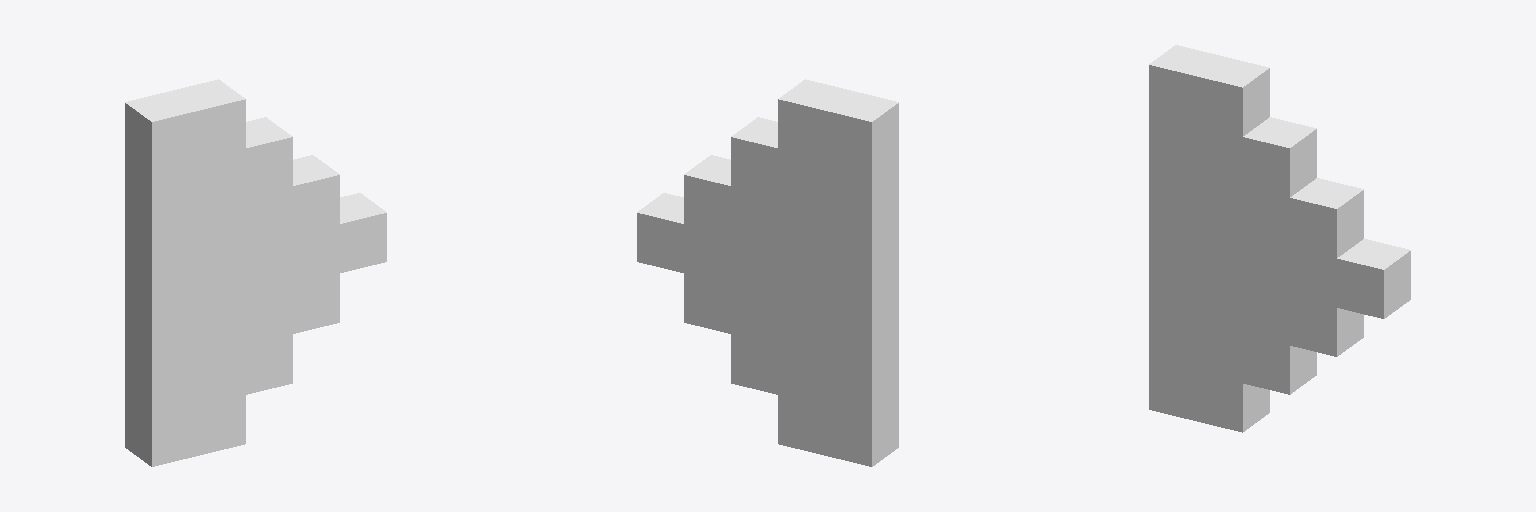
The model's file is sl_arrow_back.obj.
3 views of the same model, side by side, from view 1: azimuth 30°, elevation 25°; view 2: azimuth 150°, elevation 25°; view 3: azimuth 330°, elevation 25° (orthographic).
Bounding box in the file's own units: 5 × 7 × 1.